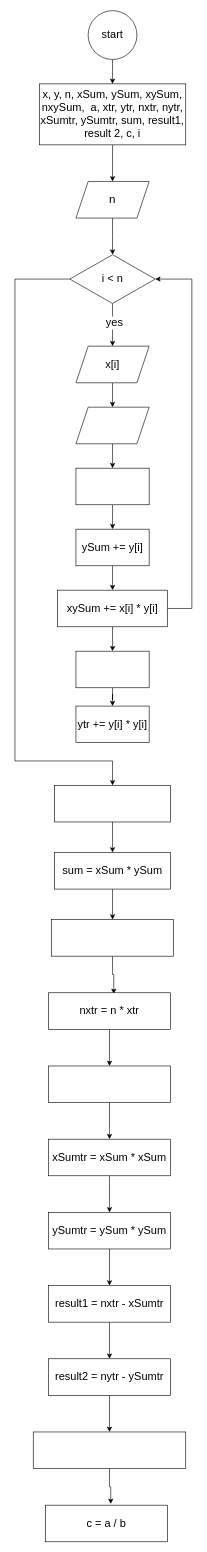
Some shapes in this 207 by 1552 pixel diagram are drawn without their labels. Here are the shapes that lost their labels. From the top down, the box of each, then its label:
(75, 407, 149, 444): y[i]
(75, 468, 149, 505): xSum += x[i]
(75, 651, 149, 688): xtr += x[i] * x[i]
(54, 785, 170, 822): nxySum = n * xySum
(51, 919, 174, 956): a = nxySum - sum
(48, 1065, 170, 1103): nytr = n * ytr
(33, 1431, 186, 1469): b = sqrt(result1) * sqrt(result2)
